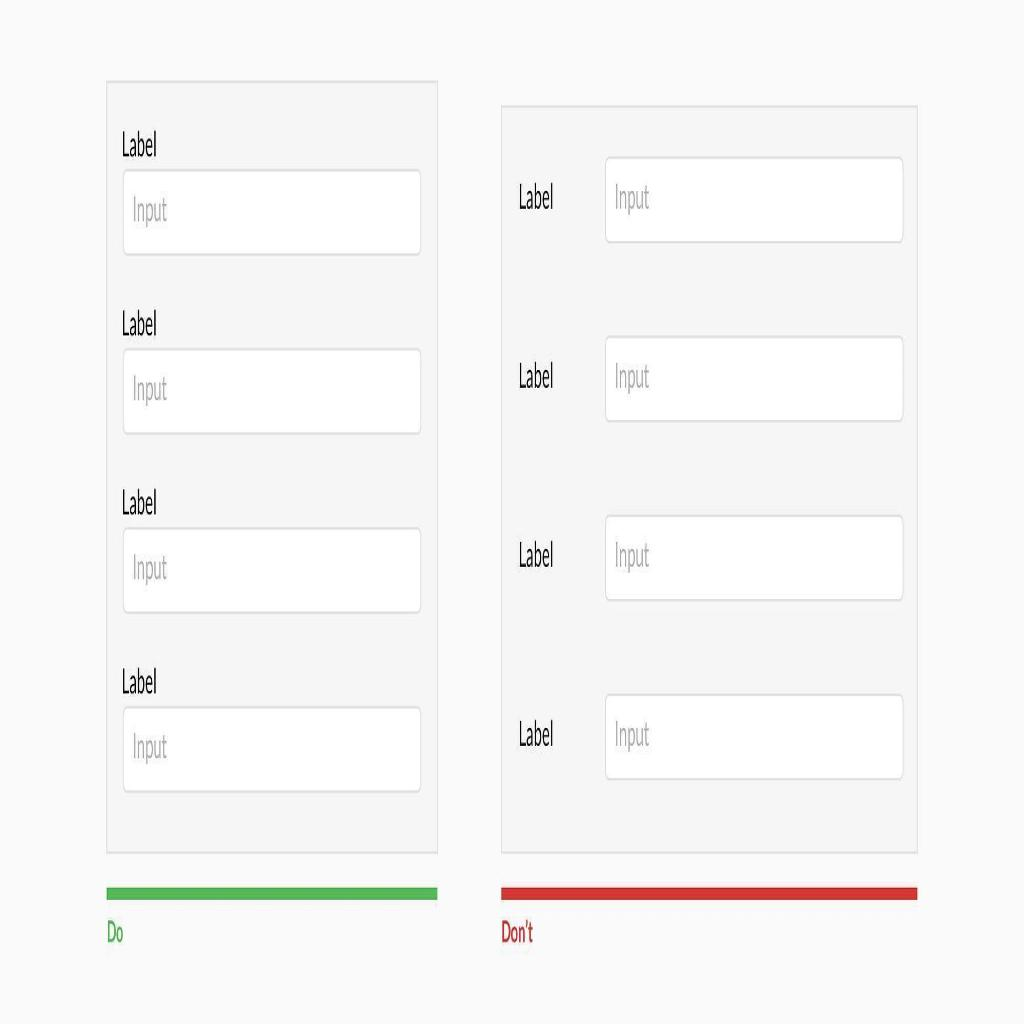input: (604, 691, 902, 784), (121, 345, 421, 437), (123, 526, 420, 616), (604, 513, 902, 598), (124, 169, 422, 252), (606, 160, 904, 242), (605, 342, 904, 422), (122, 715, 422, 792)
label: (515, 350, 556, 410), (514, 711, 556, 764), (517, 536, 556, 586), (121, 302, 159, 346), (515, 178, 557, 217), (122, 664, 158, 706), (118, 130, 160, 164), (121, 486, 159, 518)
